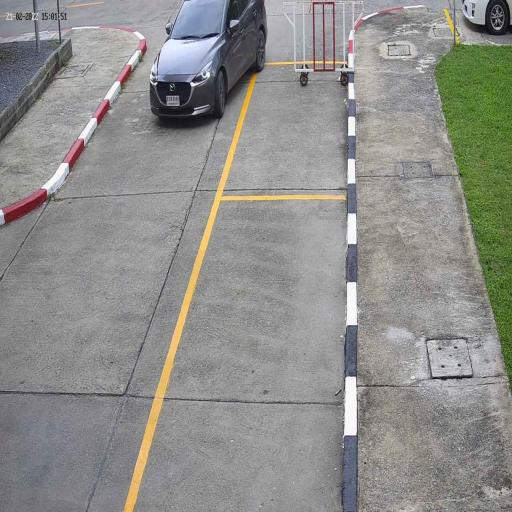car: (147, 0, 269, 124)
